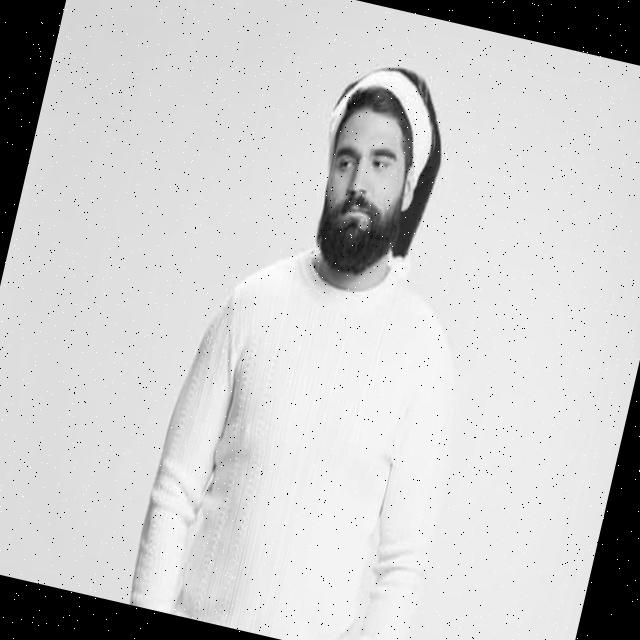Sadness: (314, 106, 408, 256)
